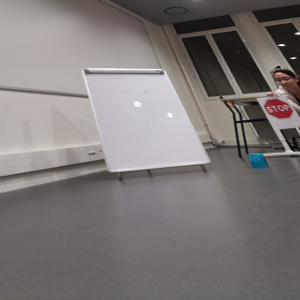stop: (264, 99, 294, 118)
